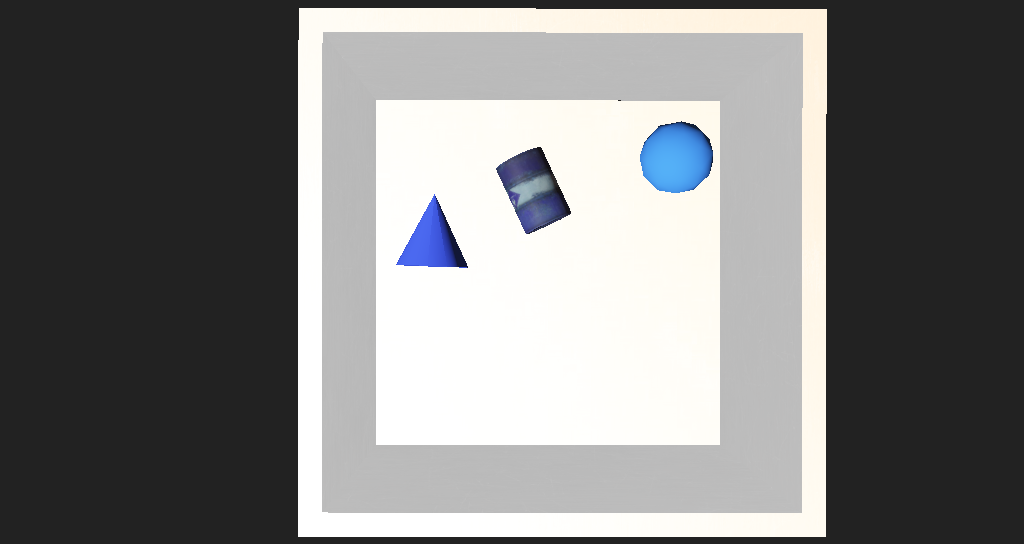cone: (458, 186, 525, 243)
cylinder: (367, 215, 441, 262)
sphere: (589, 179, 650, 222)
